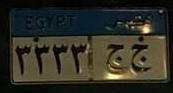3: (70, 41, 88, 75), (14, 43, 32, 77), (33, 42, 50, 77), (52, 43, 68, 75)
jeem: (104, 43, 128, 75), (130, 43, 153, 76)
